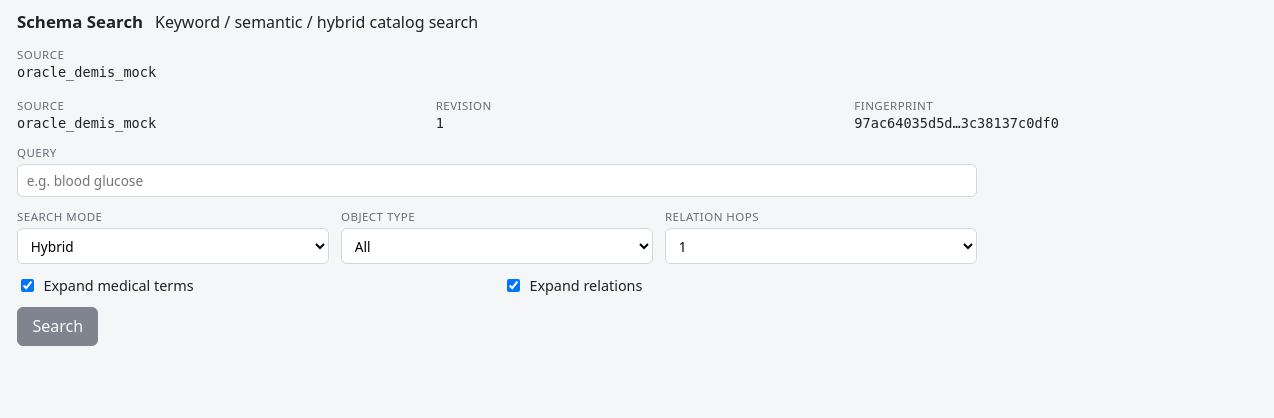
Scenario: SchemaSearch › shows guidance for discovery/embedding errors
The image size is (1274, 418).
Type "x" into the field with test id "search-query-input".
click(497, 180); type("x")  # box left=17, top=164, right=977, bottom=197
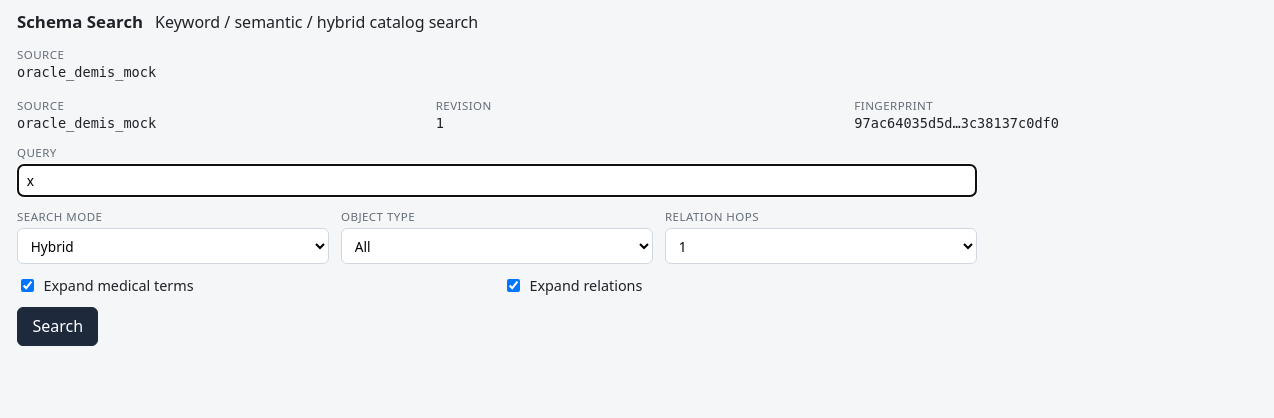
Click the button with test id "search-submit".
click(58, 326)  # box left=17, top=307, right=98, bottom=346
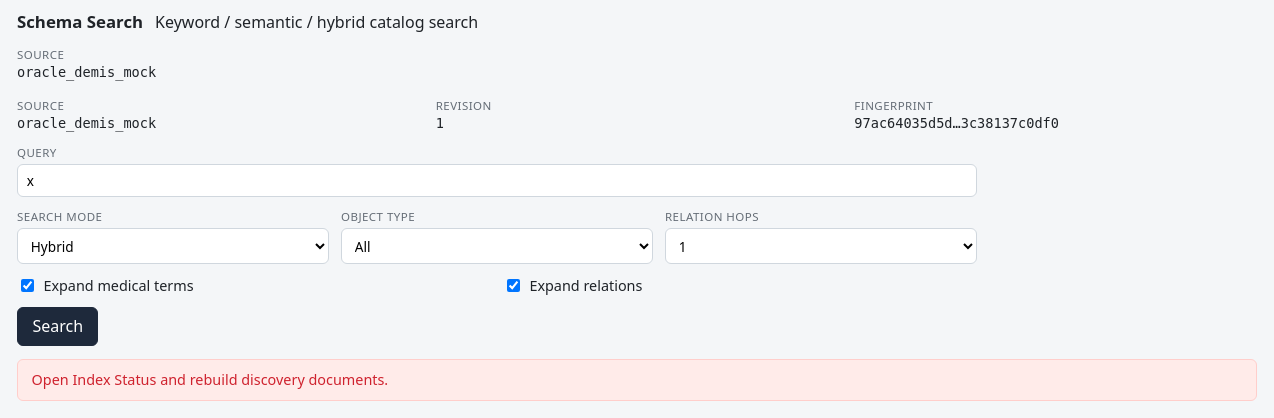
Expected: the text with test id "search-error" shows "rebuild discovery documents", left=32, top=370, right=388, bottom=390
